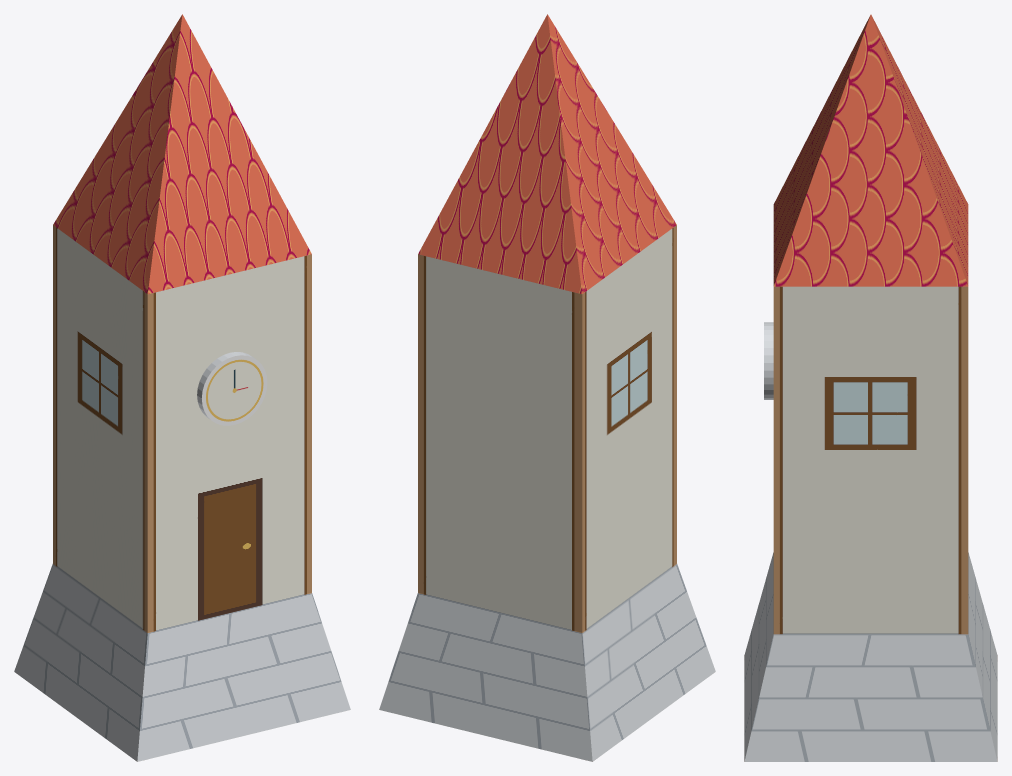
The model's file is building_clocktower.glb.
3 views of the same model, side by side, from view 1: azimuth 30°, elevation 25°; view 2: azimuth 150°, elevation 25°; view 3: azimuth 270°, elevation 25° (orthographic). The views are drawn at different scales.
Visible parts, largest first — view 1: building_clocktower; view 2: building_clocktower; view 3: building_clocktower.
Part boxes in pixels (left/top/right/bottom): building_clocktower: left=14, top=14, right=350, bottom=761; building_clocktower: left=379, top=14, right=715, bottom=761; building_clocktower: left=744, top=14, right=997, bottom=761.
Bounding box in the file's own units: 2.08 × 6.3 × 2.08.
3 materials, 3 textured.
